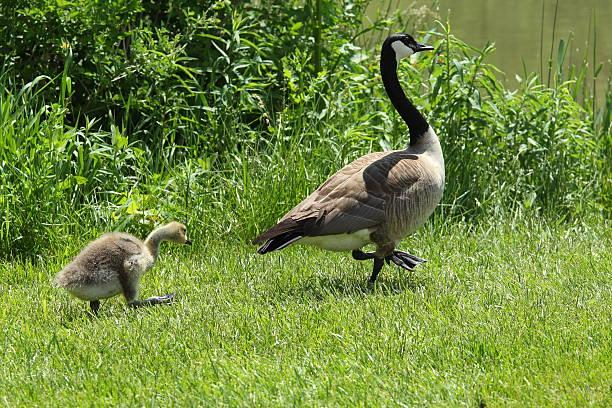Canadian-Goose: (252, 33, 451, 290), (53, 216, 188, 308)
